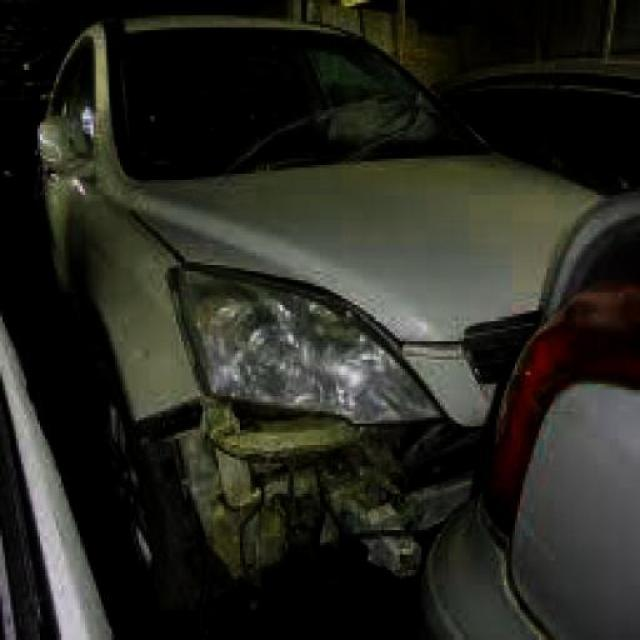Car-Damage: (132, 396, 479, 584)
